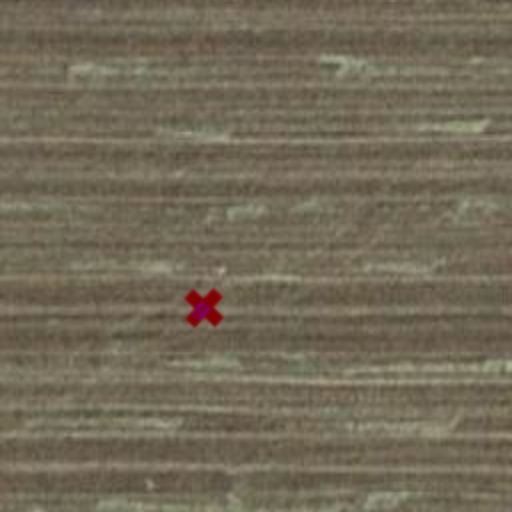cross: (172, 276, 236, 340)
